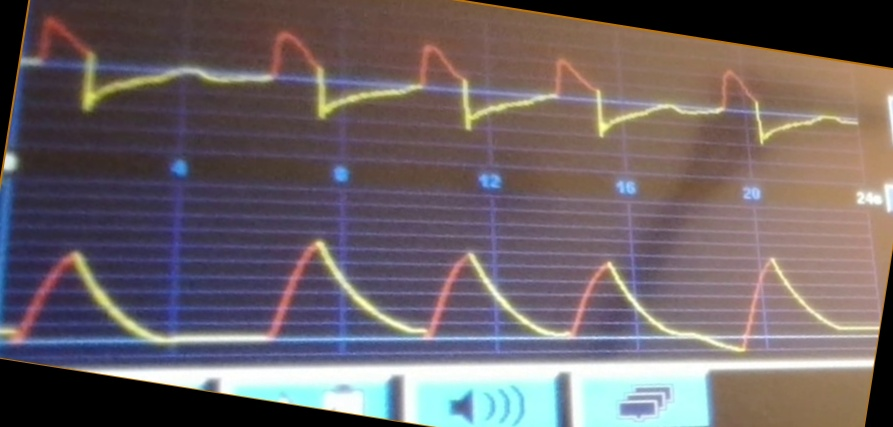Ineffective_effort Flow: (28, 15, 855, 150)
Ineffective_effort Volume: (3, 230, 871, 355)
